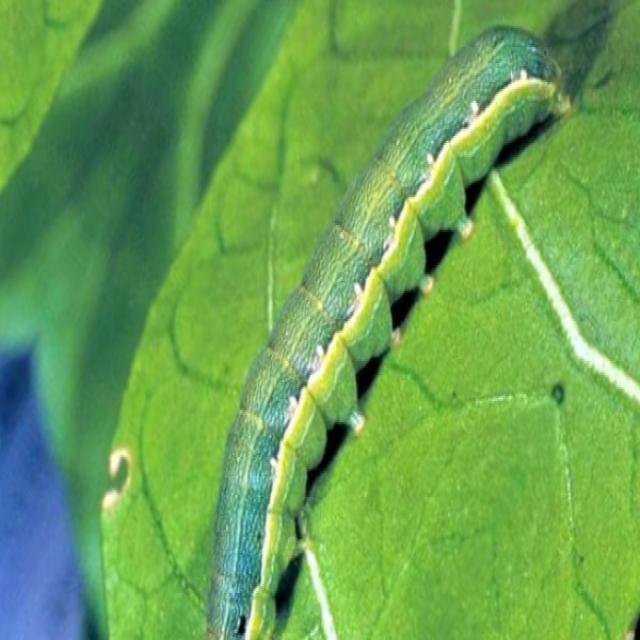Armyworm: (130, 1, 585, 640)
